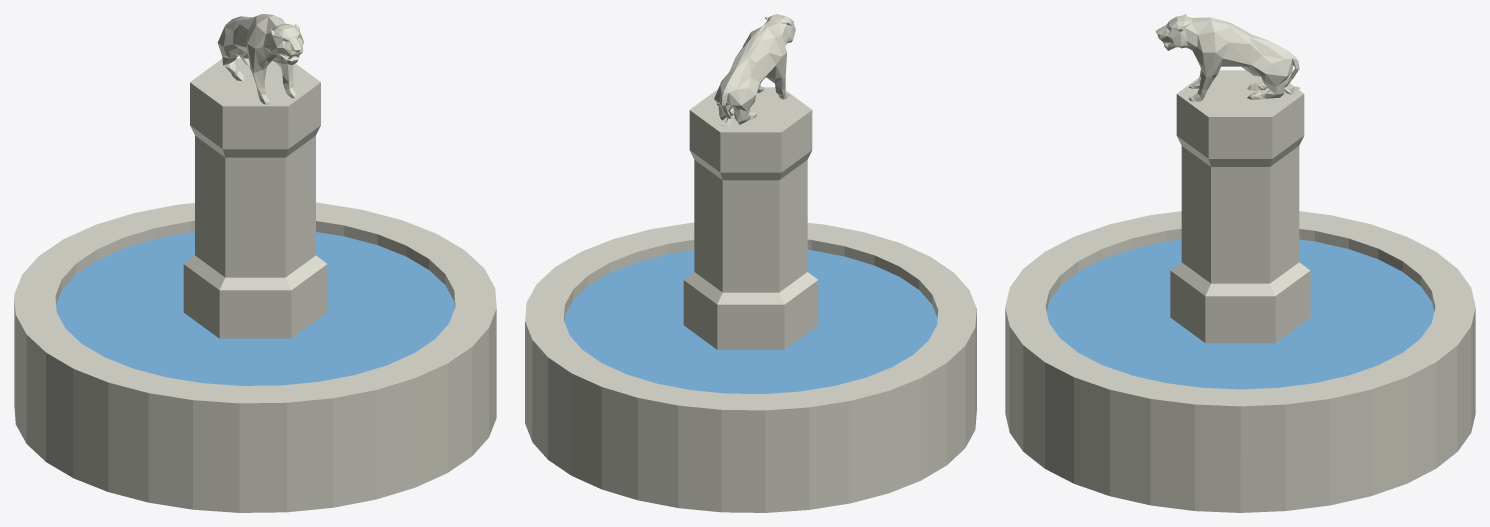
Rendered from Fountain.fbx.
The picture shows the model from 3 angles, left to right: view 1: azimuth 30°, elevation 25°; view 2: azimuth 150°, elevation 25°; view 3: azimuth 270°, elevation 25°; orthographic projection. The views are drawn at different scales.
Visible parts, largest first — view 1: Cylinder, Grid, Cylinder.001, Plane; view 2: Cylinder, Grid, Cylinder.001, Plane; view 3: Cylinder, Grid, Cylinder.001, Plane.
Boxes of the visible parts, x1,y1,x2,y2 form: Cylinder: (14, 202, 496, 512); Grid: (56, 231, 454, 385); Cylinder.001: (183, 58, 327, 338); Plane: (217, 14, 303, 104); Cylinder: (525, 222, 976, 512); Grid: (564, 250, 937, 393); Cylinder.001: (683, 87, 818, 349); Plane: (714, 14, 795, 127); Cylinder: (1005, 211, 1475, 512); Grid: (1046, 239, 1434, 389); Cylinder.001: (1170, 70, 1310, 343); Plane: (1155, 14, 1299, 101).
Size of the model in its own units: 200 by 185 by 200.
